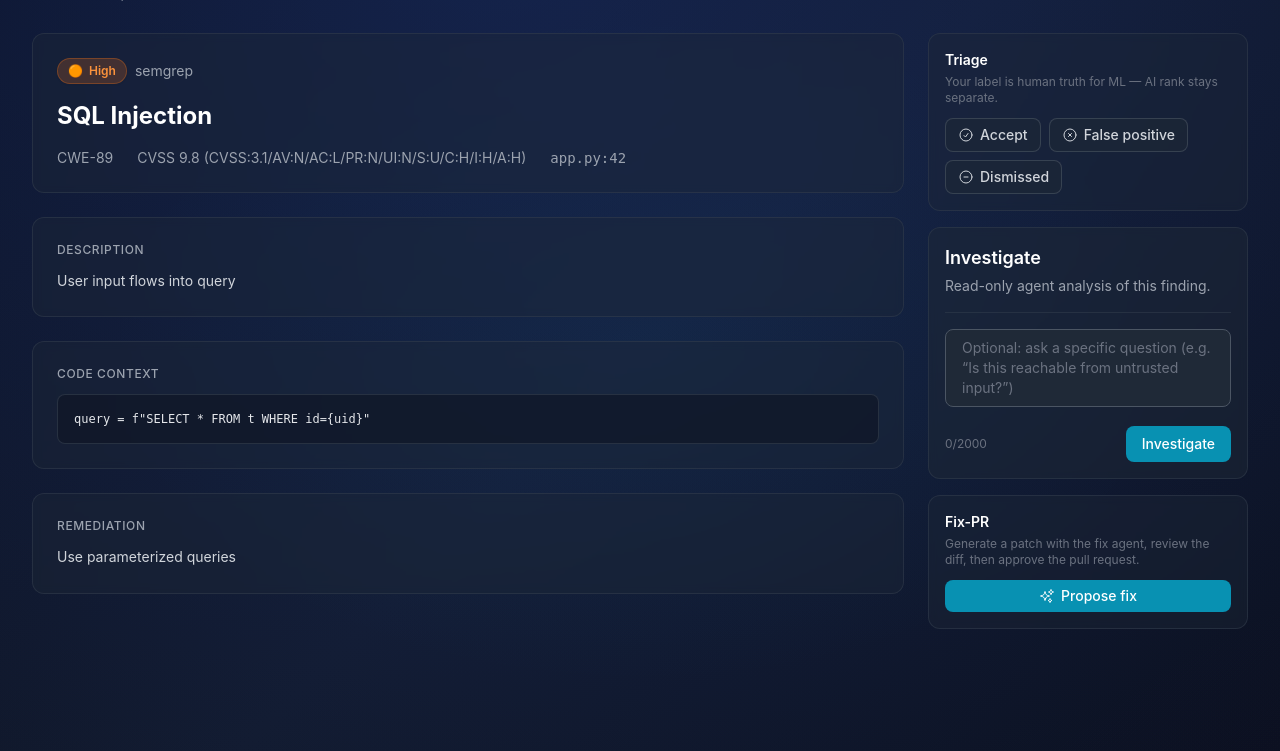
Test case: FindingDetail › mounts the fix-PR card on the rail and expands the review section on propose
Expected: the heading "Fix-PR" is shown, top-left (945, 512), bottom-right (989, 532)
Expected: the text "Fix-PR review" is not shown
Click the button "Propose fix".
click(1088, 596)  # box top-left (945, 580), bottom-right (1231, 612)
(page scrolled)
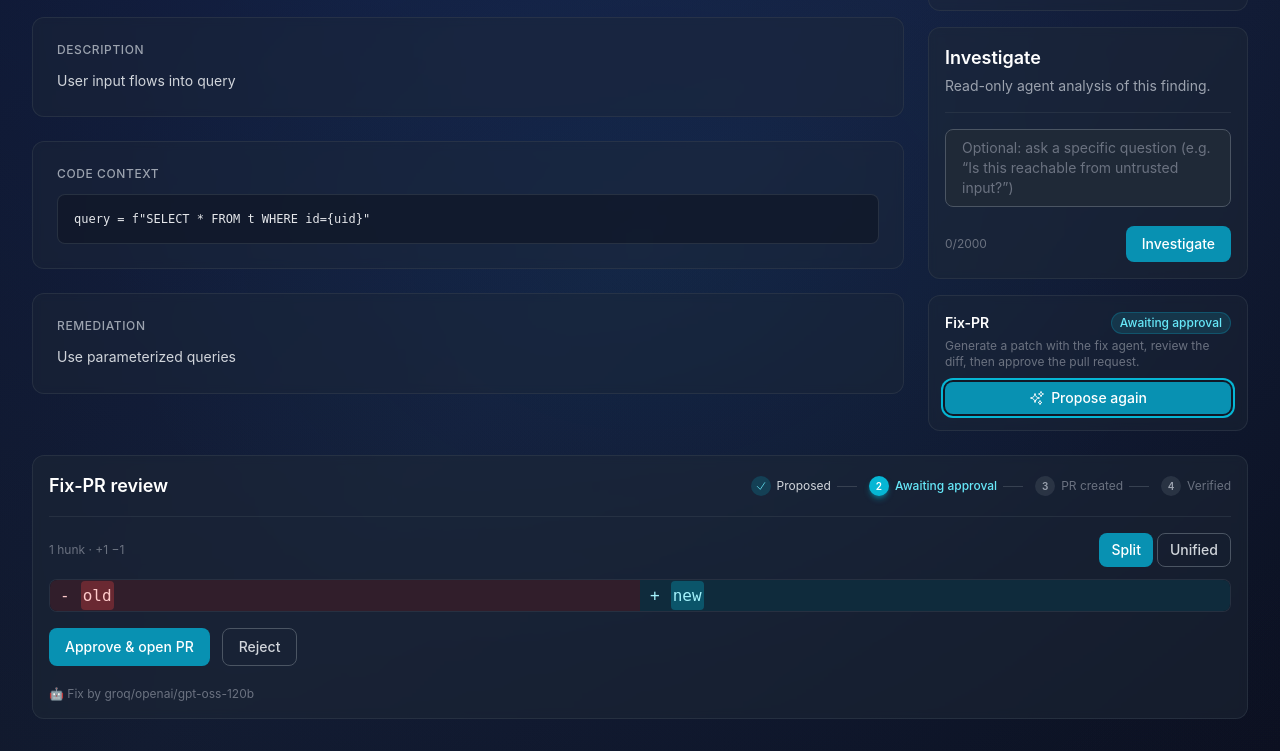
Now the heading "Fix-PR review" is shown, box top-left (49, 472), bottom-right (168, 500)
Now the button "Approve & open PR" is shown, box top-left (49, 628), bottom-right (210, 666)
